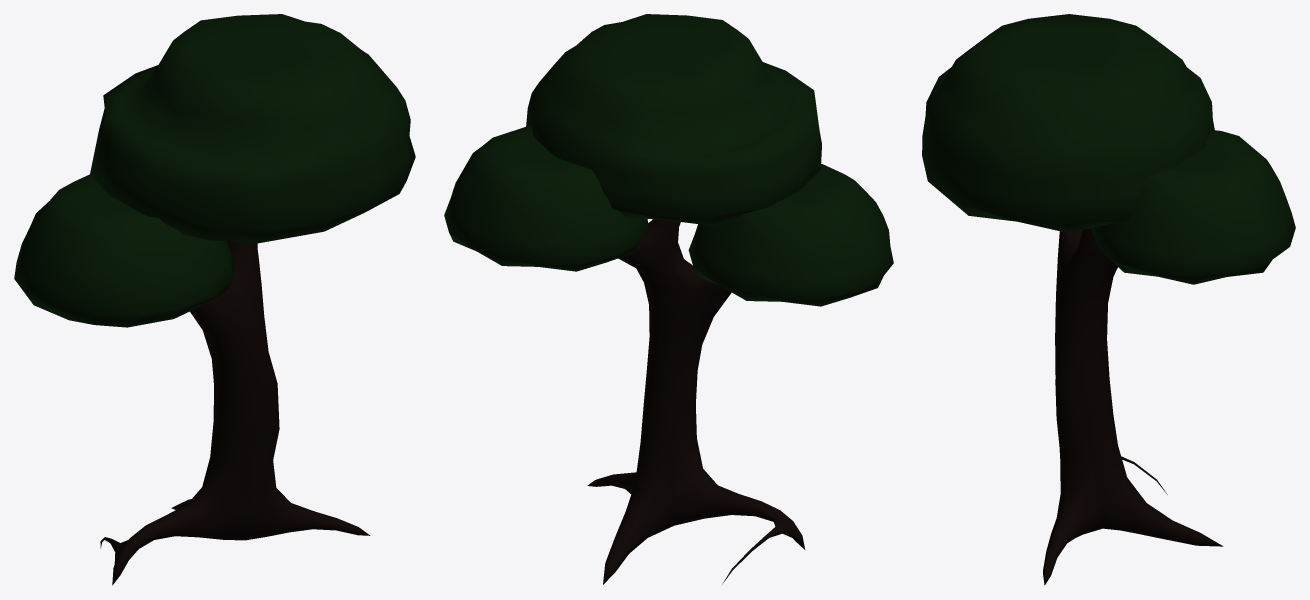
File: SM_Tree_Root_2.FBX
3 views of the same model, side by side, from view 1: azimuth 30°, elevation 25°; view 2: azimuth 150°, elevation 25°; view 3: azimuth 270°, elevation 25° (orthographic). The views are drawn at different scales.
Visible parts, largest first — view 1: SM_Tree_Root_2; view 2: SM_Tree_Root_2; view 3: SM_Tree_Root_2.
Part boxes in pixels (bbox=[...]): SM_Tree_Root_2: bbox=[14, 14, 415, 585]; SM_Tree_Root_2: bbox=[444, 14, 893, 584]; SM_Tree_Root_2: bbox=[922, 14, 1295, 585].
Bounding box in the file's own units: 5.86 × 7.32 × 4.95.
